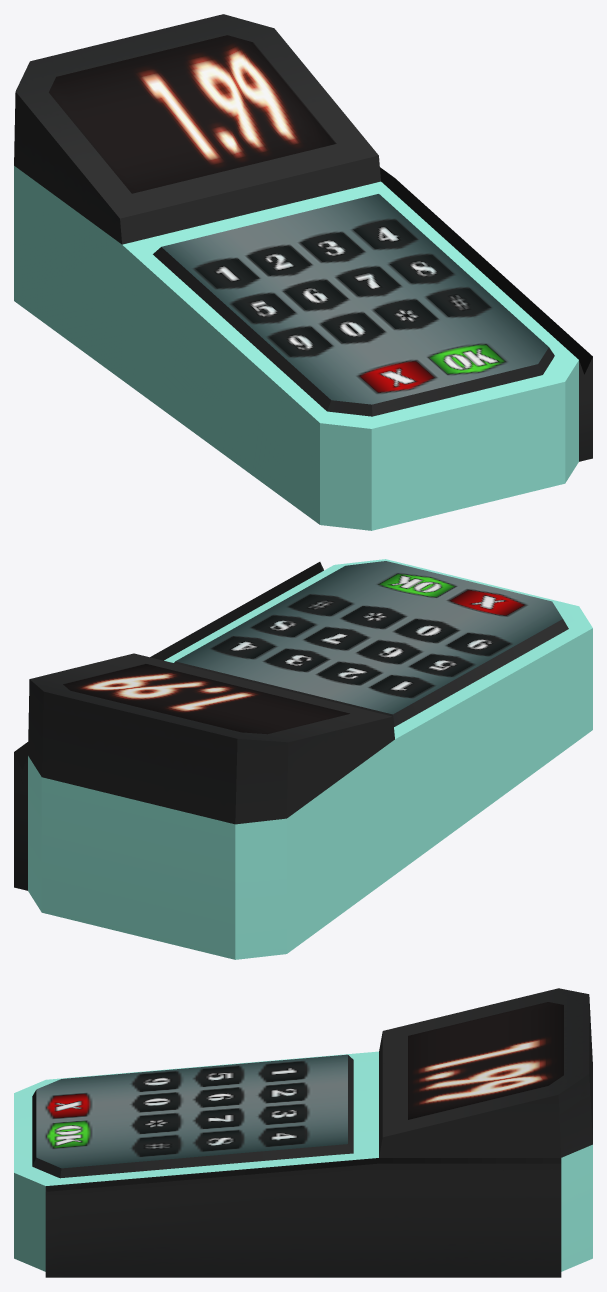
The model's file is Credit_Card_Machine_3.FBX.
3 views of the same model, one above another, from view 1: azimuth 30°, elevation 25°; view 2: azimuth 150°, elevation 25°; view 3: azimuth 270°, elevation 25° (orthographic). The views are drawn at different scales.
Parts seen in each view (by area): view 1: Credit_Card_Machine; view 2: Credit_Card_Machine; view 3: Credit_Card_Machine.
Part boxes in pixels (box(x1,y1,x2,y2)): Credit_Card_Machine: box(14, 14, 592, 530); Credit_Card_Machine: box(14, 559, 592, 959); Credit_Card_Machine: box(14, 988, 592, 1277).
Size of the model in its own units: 52.7 by 40.5 by 115.
